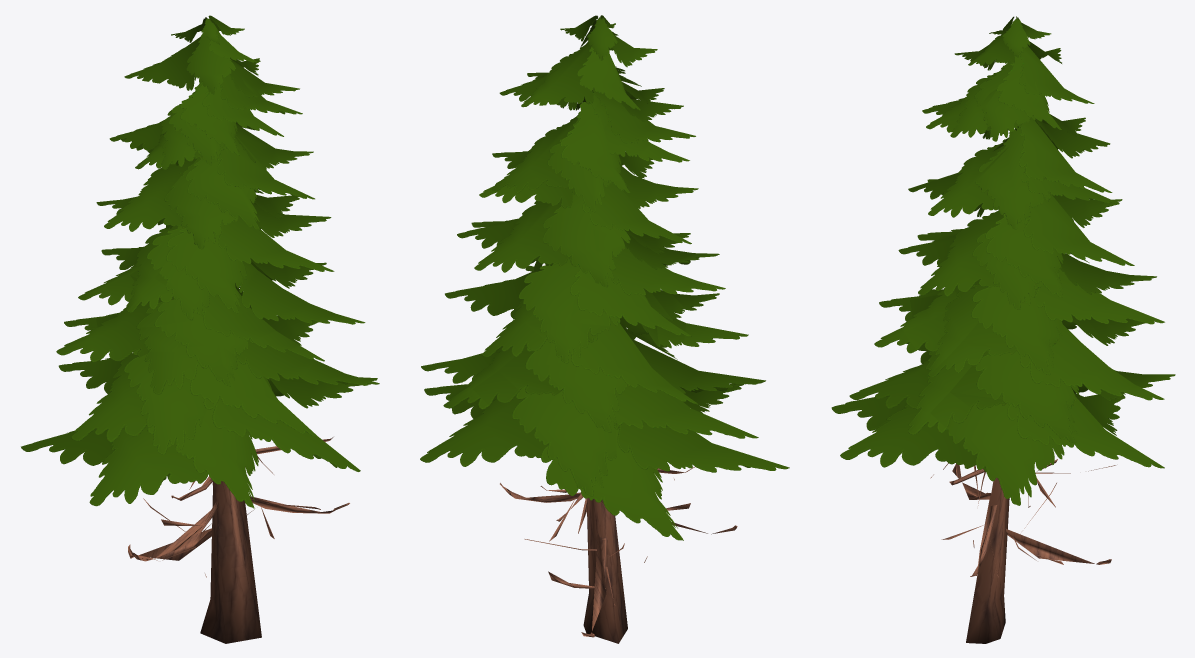
File: pine_4_1.glb
3 renders of one model, left to right at view 1: azimuth 30°, elevation 25°; view 2: azimuth 150°, elevation 25°; view 3: azimuth 270°, elevation 25°, orthographic. The views are drawn at different scales.
Visible parts, largest first — view 1: Pine_4; view 2: Pine_4; view 3: Pine_4.
Part boxes in pixels (x1=…): Pine_4: x1=21, y1=15, x2=379, y2=643; Pine_4: x1=420, y1=15, x2=789, y2=643; Pine_4: x1=831, y1=16, x2=1175, y2=643.
Size of the model in its own units: 5.8 by 10.24 by 5.37.
Materials: 2 (2 with a texture image).
